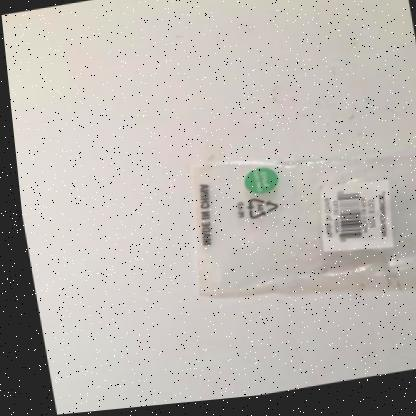Plastic: (188, 153, 416, 301)
